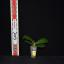leaf: (23, 35, 35, 47), (35, 38, 48, 44), (25, 41, 34, 47), (35, 44, 45, 47), (33, 40, 35, 45)
